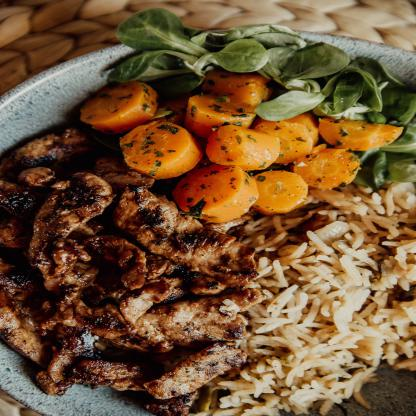Carne: (111, 185, 257, 287), (29, 168, 114, 285), (138, 338, 248, 408), (63, 301, 172, 353), (30, 358, 134, 392), (0, 304, 54, 360)
